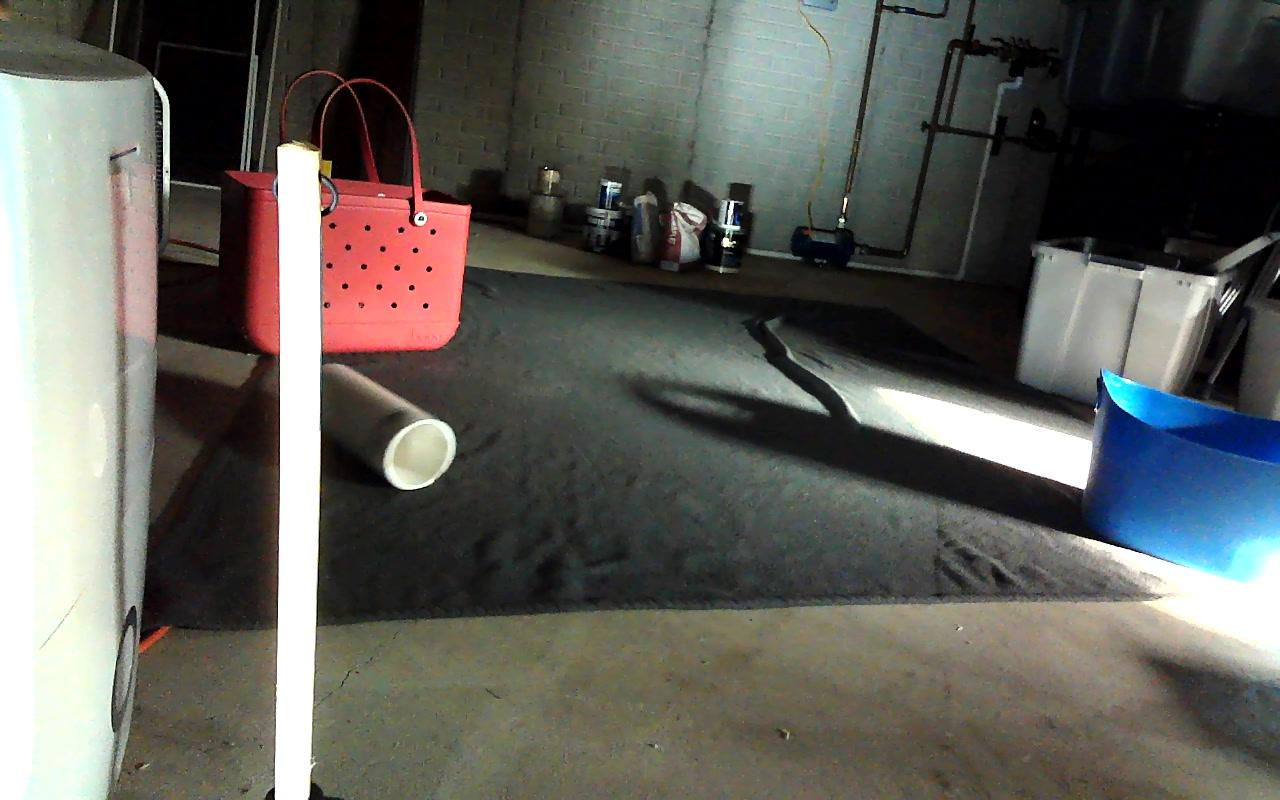coral: (321, 357, 458, 490)
